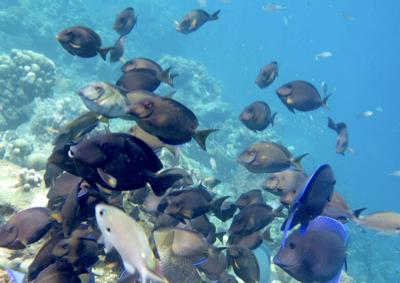Acanthuridae -Surgeonfishes-: (65, 128, 183, 197), (124, 93, 221, 152), (281, 161, 336, 246), (1, 205, 68, 251), (163, 187, 231, 224), (233, 141, 309, 173), (52, 23, 115, 61), (227, 202, 289, 234), (120, 55, 178, 87), (274, 80, 331, 112), (114, 64, 173, 93), (225, 242, 260, 281), (171, 6, 221, 33), (238, 100, 278, 133), (264, 168, 312, 195), (326, 114, 355, 156), (109, 4, 141, 35), (252, 59, 281, 88)
